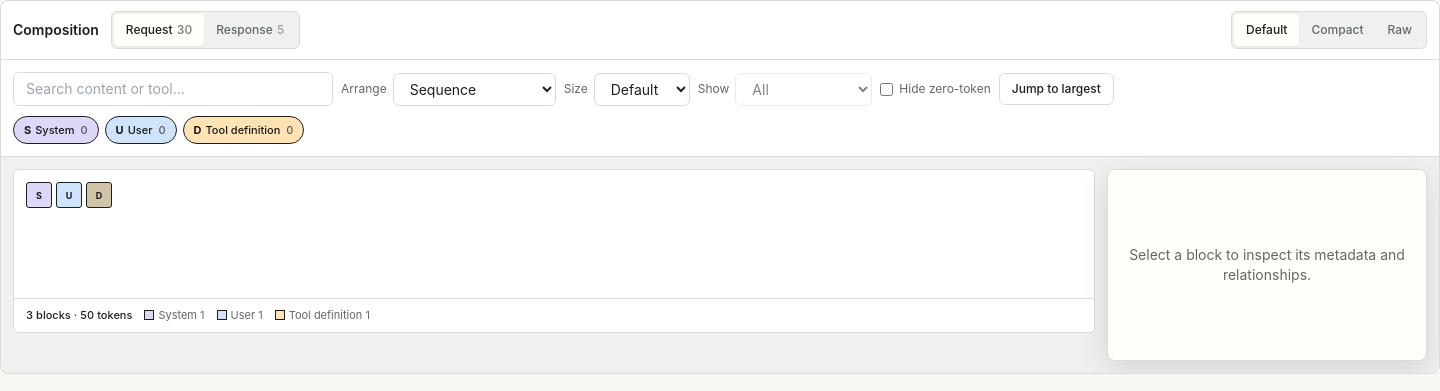
Test case: RequestWorkbench › orders request blocks by size and disables grouping for the response
Expected: the button "U" is shown, [56,182,82,208]
Click the button "Compact".
click(1337, 30)  # box [1299,14,1376,46]
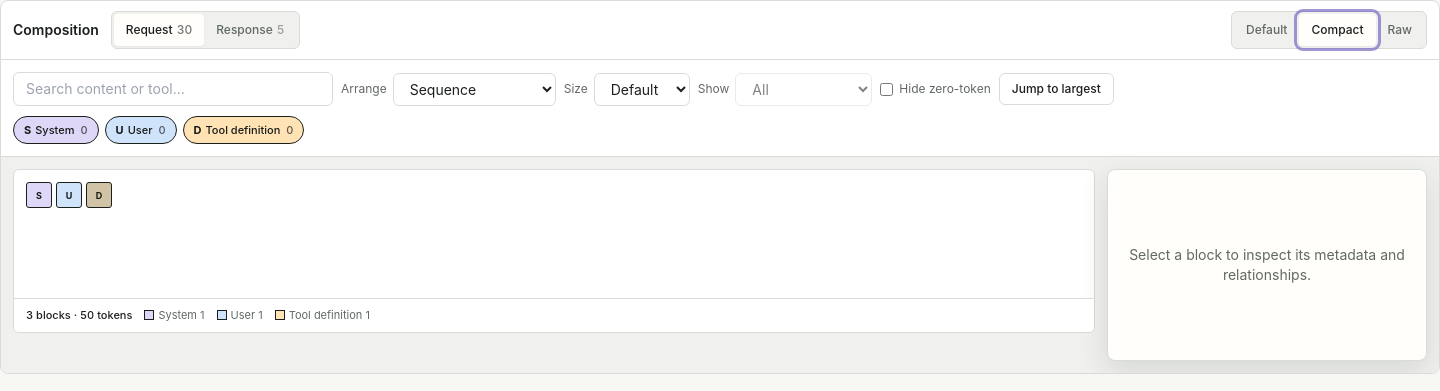
Select "Size (largest first)" in the dropdown labelled "Arrange" at (474, 89), box [393,72,556,106]
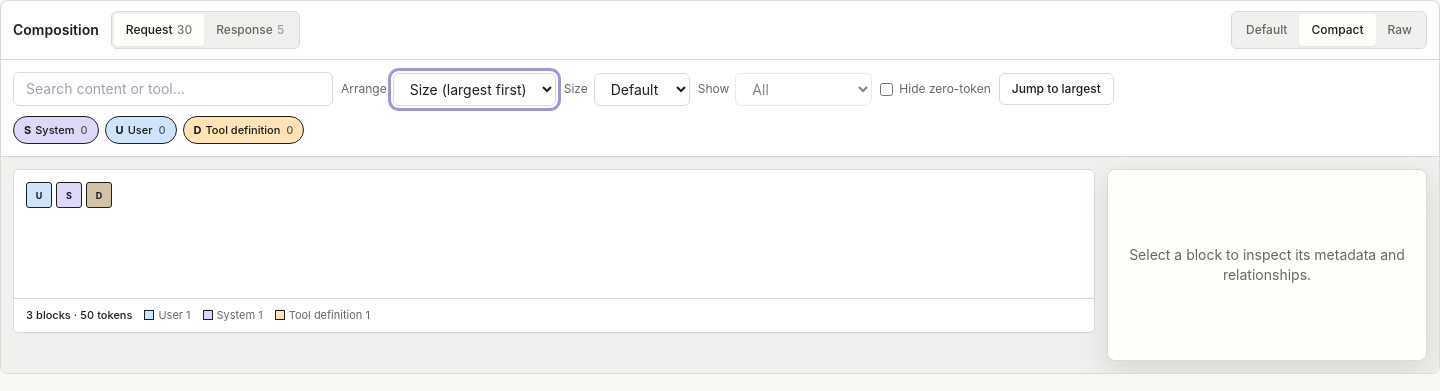
Click the button "Response5".
click(250, 30)  # box [204,14,296,46]
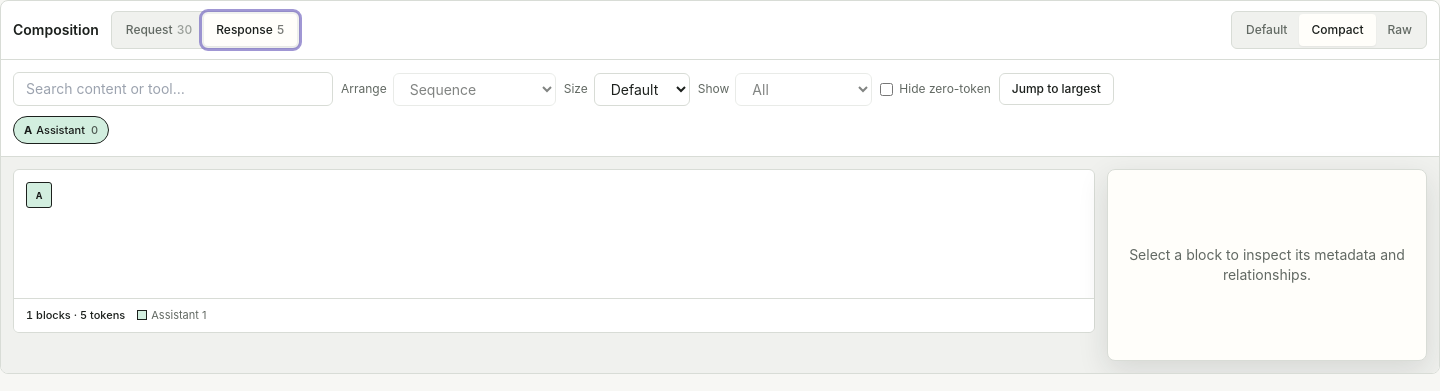
Result: the dropdown labelled "Arrange" is disabled at [393,72,556,106]
Click the button "Request30".
click(159, 30)  # box [114,14,204,46]
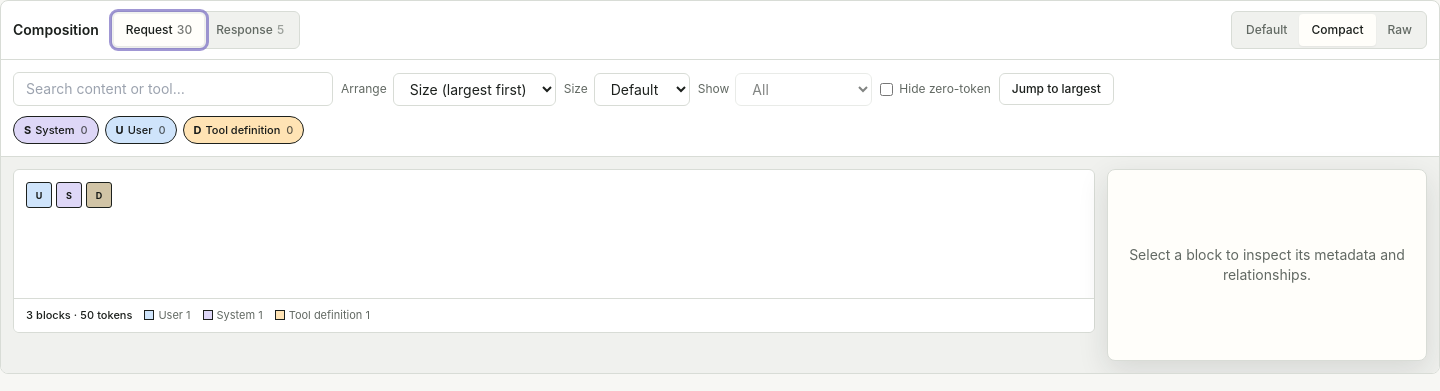
Result: the dropdown labelled "Arrange" is enabled at [393,72,556,106]
